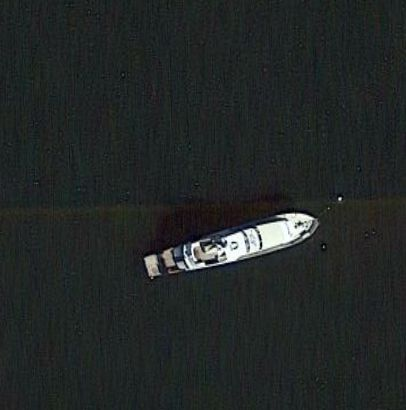boat: (143, 209, 322, 284)
